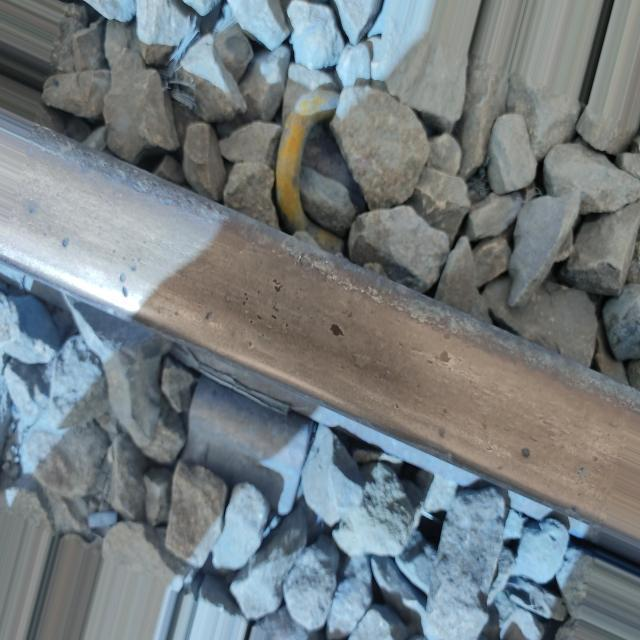head_checks_low: (241, 277, 282, 325), (118, 262, 136, 301), (516, 442, 534, 460), (328, 320, 344, 340), (438, 348, 451, 366), (60, 234, 71, 252), (205, 308, 212, 322)
